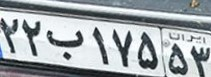character: (45, 25, 90, 62), (110, 25, 137, 68), (136, 29, 161, 73), (20, 15, 45, 58), (1, 14, 20, 56), (92, 23, 110, 67), (168, 40, 189, 77), (190, 42, 211, 77)
